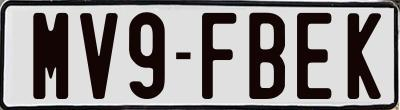9: (126, 10, 162, 102)
B: (247, 10, 289, 102)
E: (294, 12, 330, 100)
F: (200, 13, 234, 103)
K: (345, 10, 378, 100)
M: (33, 13, 74, 104)
V: (79, 13, 121, 103)
